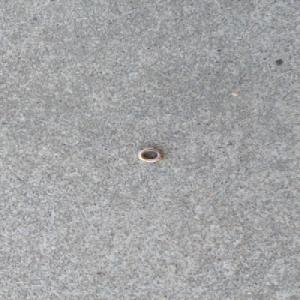Nut: (136, 147, 164, 163)
